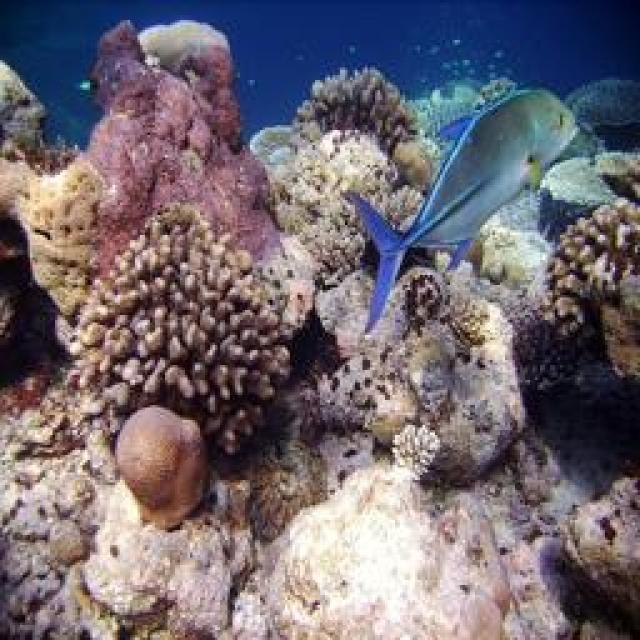fish: (343, 88, 578, 333), (566, 77, 638, 136)
reefs: (64, 202, 292, 455), (538, 195, 638, 333), (116, 404, 205, 529), (312, 63, 423, 160)
